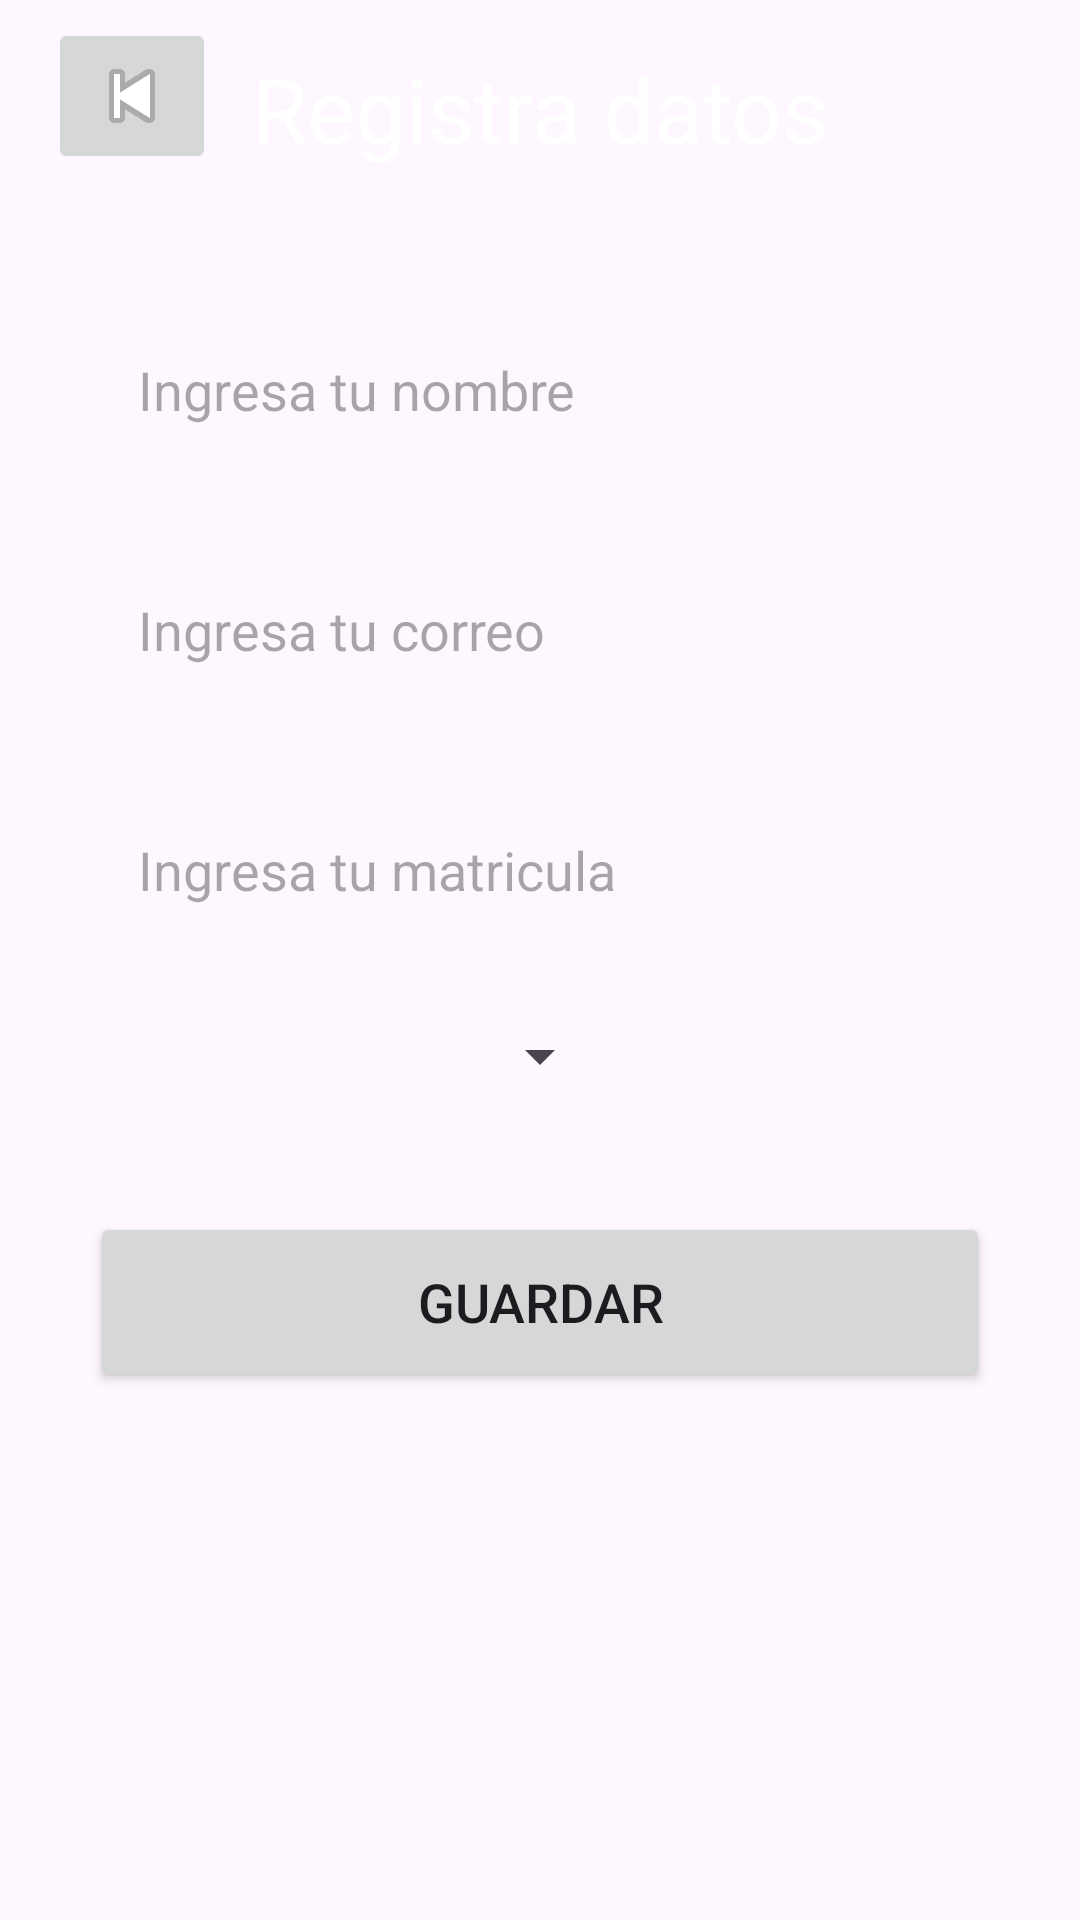

Where to tap for icons on this 1080px x 1920px app screen, as (x=x, y=y):
previous: (x=132, y=96)
